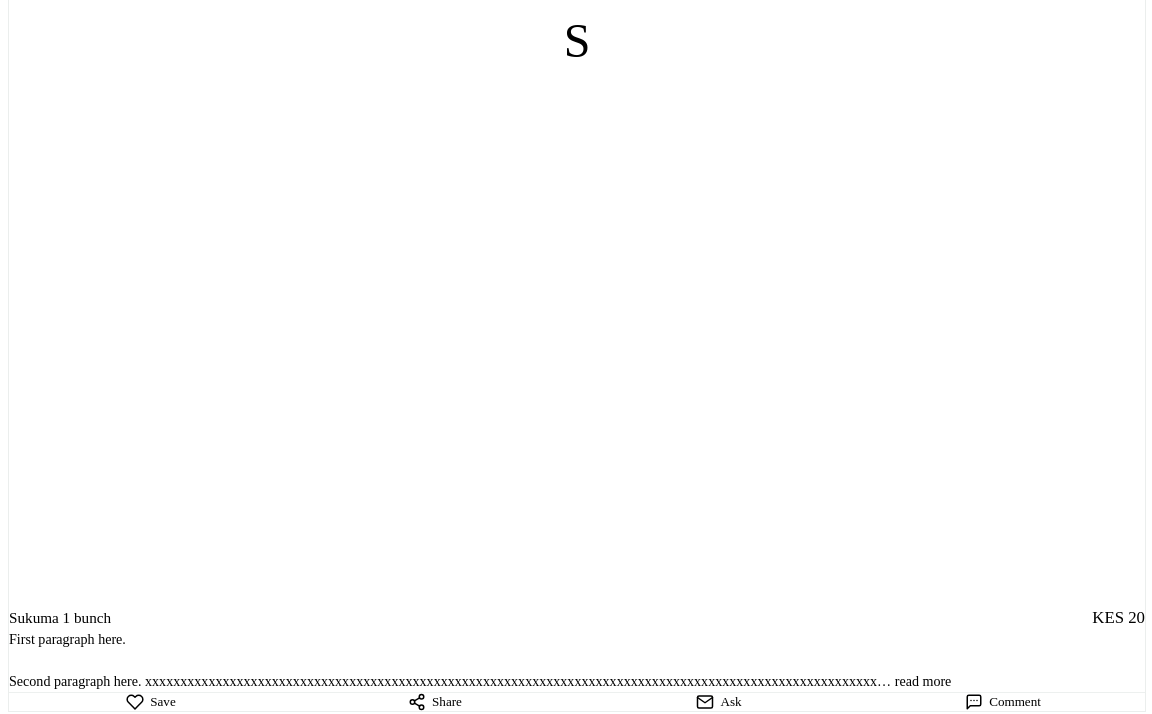
Scenario: ProductCard — product description (preview + read more) › preserves paragraphs when expanded (blank line → separate <p>)
The image size is (1152, 714).
(page scrolled)
Click the button with test id "read-more".
click(923, 681)  # box top-left (895, 671), bottom-right (951, 692)
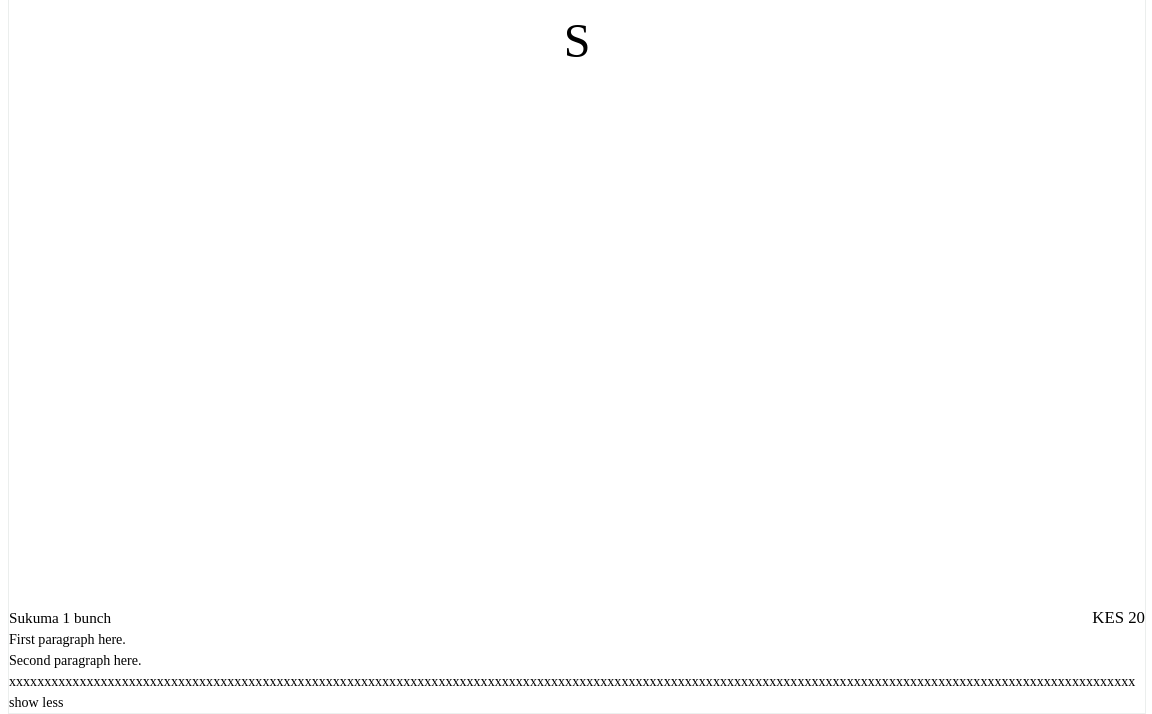
Expected: the text "First paragraph here." is shown, top-left (9, 630), bottom-right (126, 646)
Expected: the text "Second paragraph here." is shown, top-left (9, 652), bottom-right (1135, 689)
